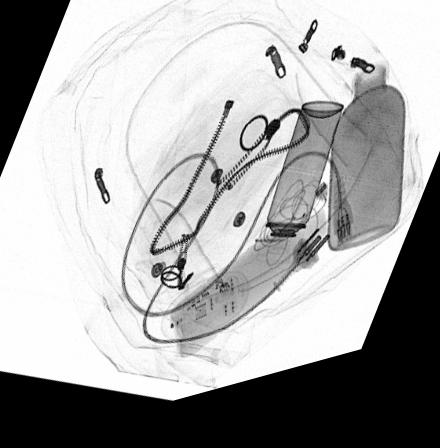Sprayer: (256, 120, 343, 279)
